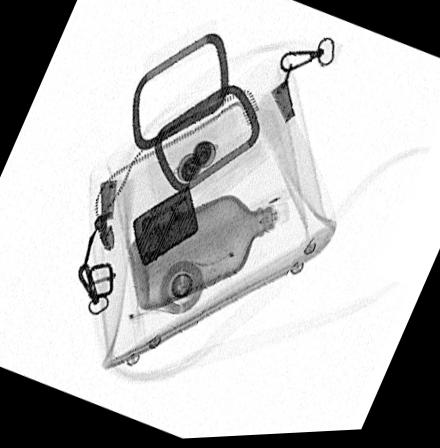Lighter: (132, 189, 198, 269)
